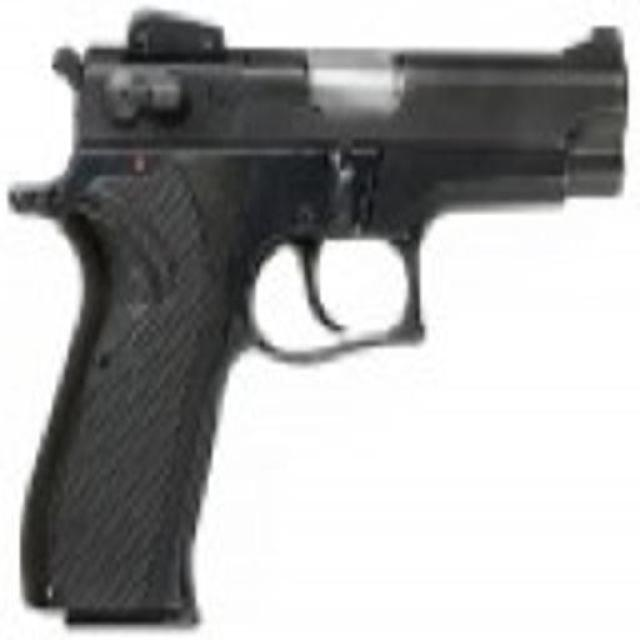pistol: (3, 15, 631, 634)
